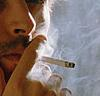smoke: (37, 54, 75, 69)
